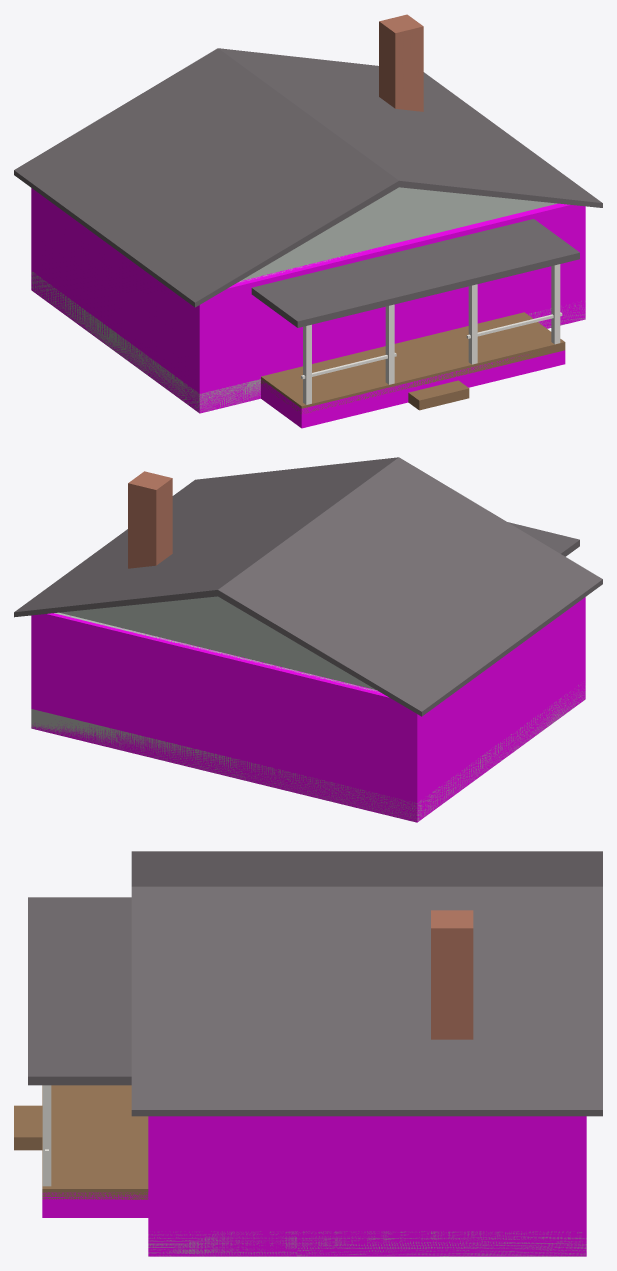
Rendered from house_b.glb.
3 renders of one model, top to bottom at view 1: azimuth 30°, elevation 25°; view 2: azimuth 150°, elevation 25°; view 3: azimuth 270°, elevation 25°, orthographic. The views are drawn at different scales.
Parts seen in each view (by area): view 1: Roof, COL_House, Porch_Roof, Porch_Deck, Gables, COL_Porch, Foundation, Chimney, Porch_Posts, Porch_Steps, Porch_Rail; view 2: Roof, COL_House, Gables, Foundation, Chimney, Porch_Roof, Walls; view 3: Roof, COL_House, Porch_Roof, Porch_Deck, Chimney, Foundation, COL_Porch, Porch_Steps, Porch_Posts.
Part boxes in pixels (left/top/right/bottom): Roof: left=14, top=48, right=602, bottom=307; COL_House: left=31, top=188, right=585, bottom=413; Porch_Roof: left=251, top=219, right=579, bottom=327; Porch_Deck: left=261, top=312, right=565, bottom=413; Gables: left=241, top=187, right=556, bottom=280; COL_Porch: left=261, top=350, right=565, bottom=428; Foundation: left=31, top=272, right=585, bottom=412; Chimney: left=379, top=14, right=423, bottom=111; Porch_Posts: left=303, top=264, right=560, bottom=404; Porch_Steps: left=408, top=380, right=469, bottom=410; Porch_Rail: left=301, top=312, right=562, bottom=379; Roof: left=14, top=457, right=602, bottom=716; COL_House: left=31, top=597, right=585, bottom=822; Gables: left=60, top=596, right=375, bottom=689; Foundation: left=31, top=685, right=585, bottom=822; Chimney: left=128, top=471, right=172, bottom=568; Porch_Roof: left=508, top=522, right=579, bottom=556; Walls: left=54, top=612, right=380, bottom=692; Roof: left=131, top=851, right=602, bottom=1116; COL_House: left=148, top=1116, right=586, bottom=1256; Porch_Roof: left=28, top=897, right=131, bottom=1085; Porch_Deck: left=42, top=1085, right=148, bottom=1199; Chimney: left=431, top=910, right=473, bottom=1039; Foundation: left=148, top=1231, right=586, bottom=1256; COL_Porch: left=42, top=1192, right=148, bottom=1217; Porch_Steps: left=14, top=1105, right=42, bottom=1150; Porch_Posts: left=42, top=1085, right=51, bottom=1186.
Bounding box in the file's own units: 13 × 6.9 × 12.5.
